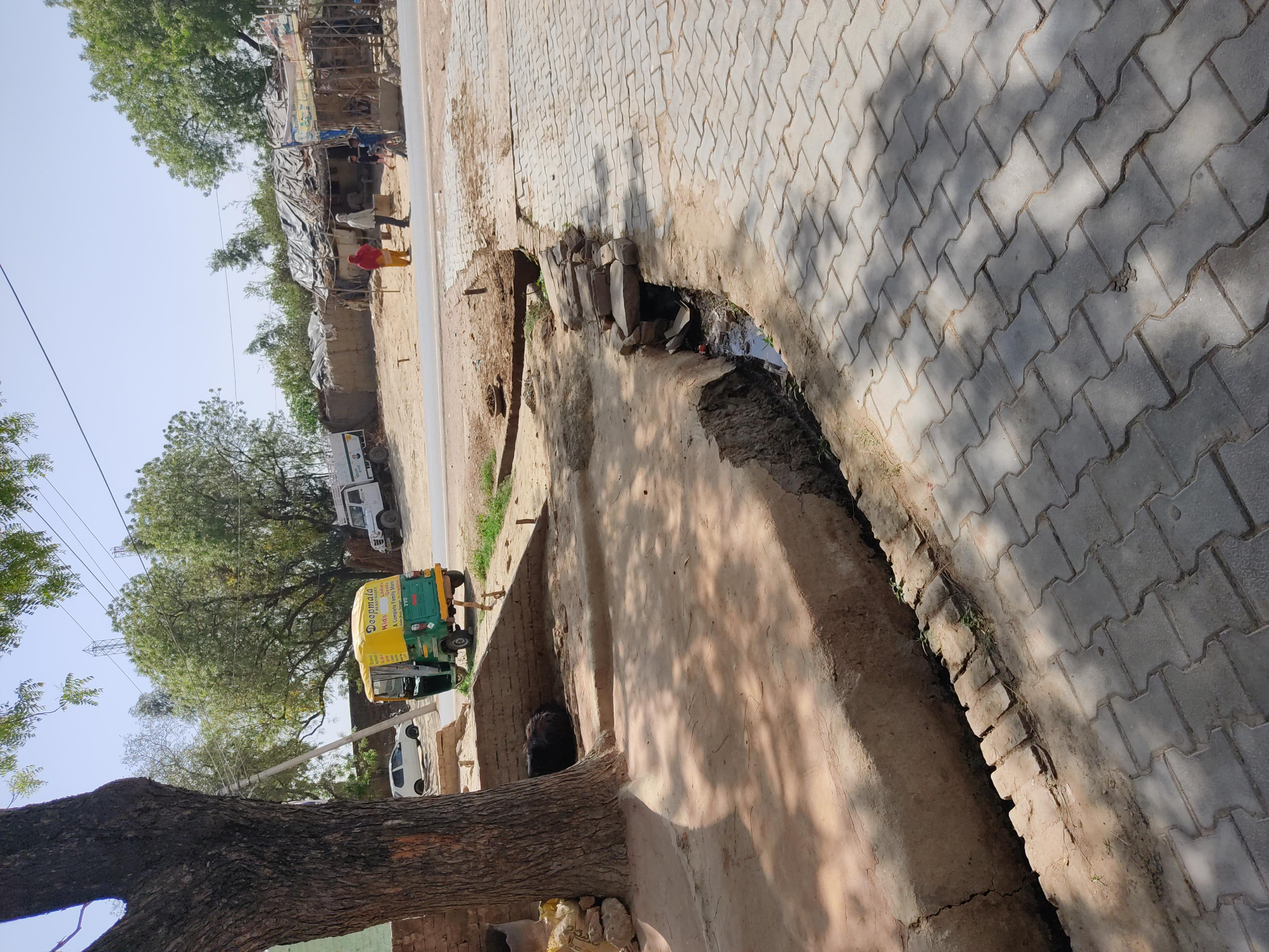Auto: (319, 257, 542, 362)
